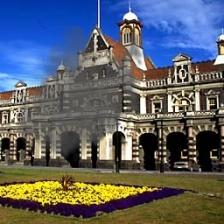fire: (14, 26, 147, 167)
